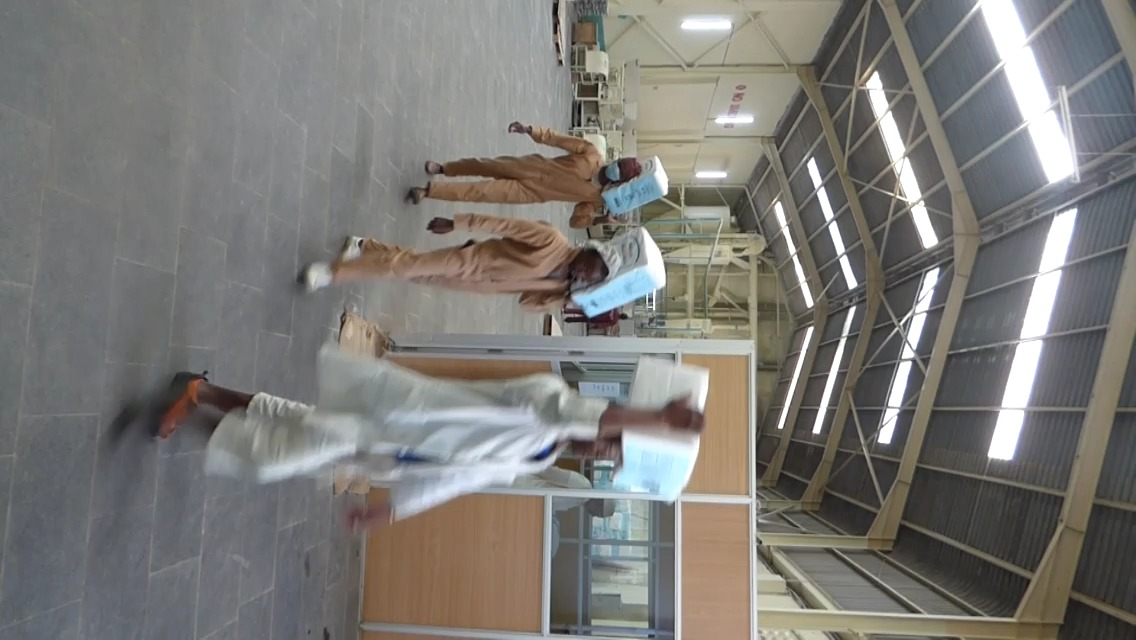wheat_flour_blue_label: (629, 350, 705, 493), (580, 228, 661, 313), (605, 158, 672, 211)
